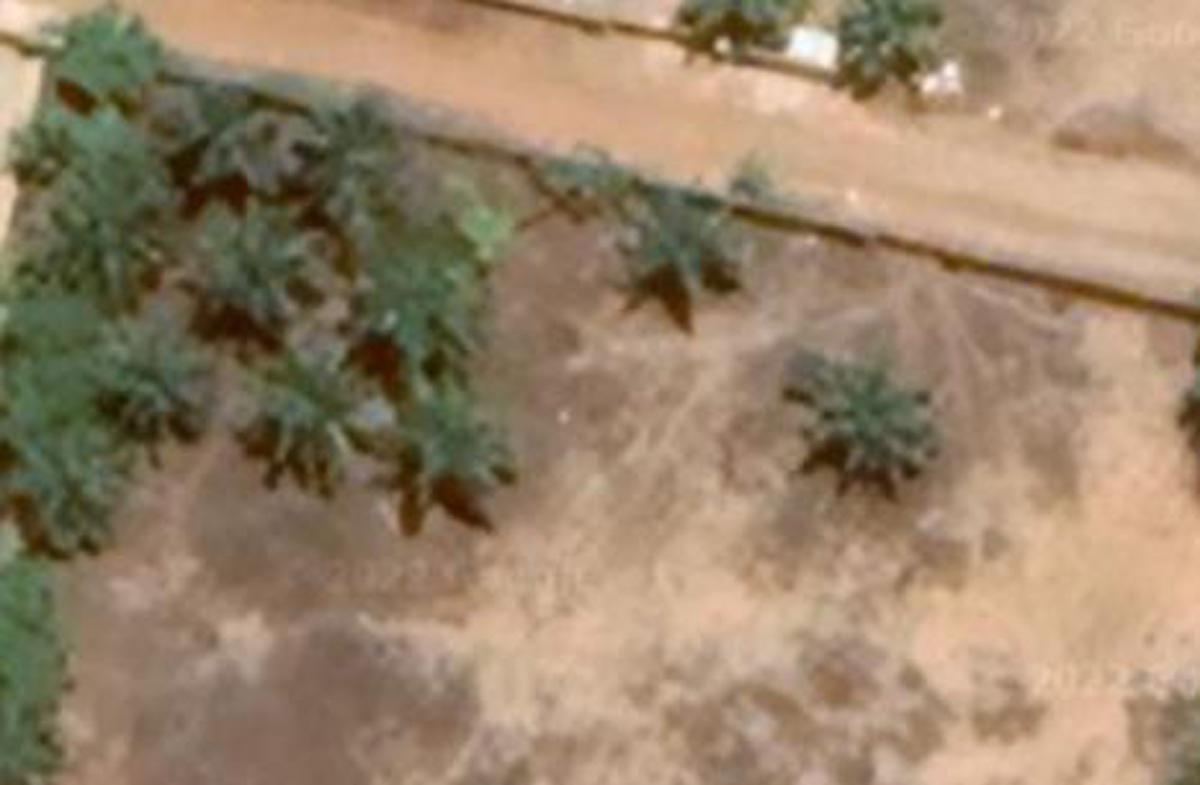coconut: (790, 342, 950, 499), (381, 368, 522, 512), (43, 157, 180, 303), (234, 357, 375, 494), (355, 249, 507, 368), (5, 432, 141, 561), (296, 100, 435, 226), (610, 190, 749, 314), (175, 72, 301, 200), (195, 213, 316, 342), (92, 326, 211, 452), (829, 0, 955, 105), (54, 5, 162, 110)
